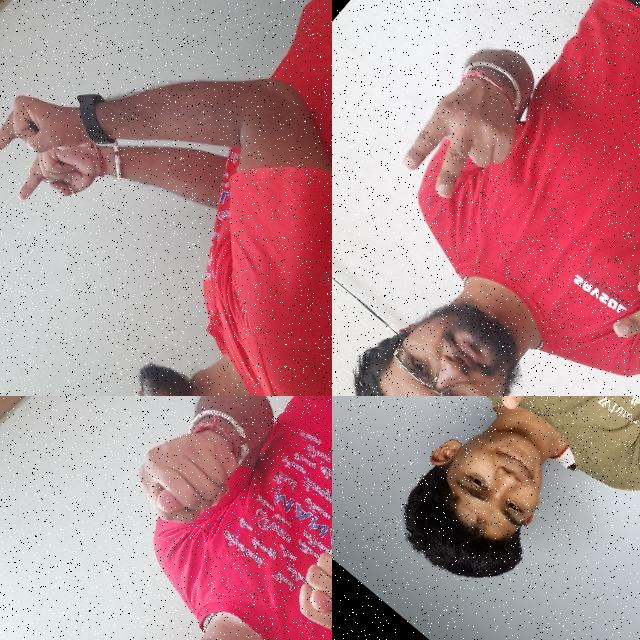Dulya: (108, 398, 262, 554), (276, 508, 332, 640)
Middle Finger: (0, 113, 126, 240), (0, 59, 107, 207), (460, 396, 634, 444)
Reversed Victory: (380, 46, 550, 222), (580, 207, 640, 392)
